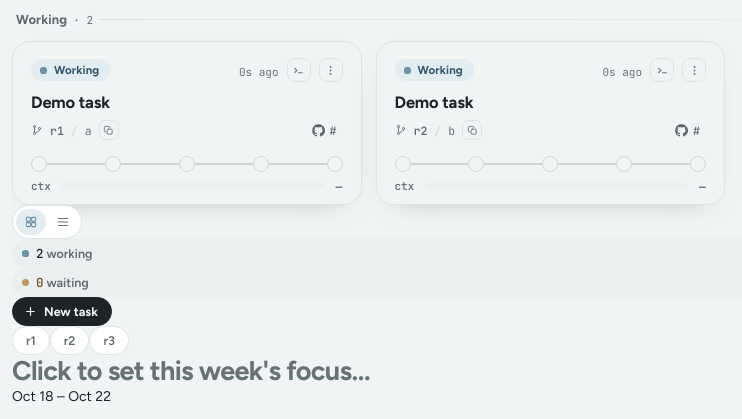
Scenario: ActiveBoard: project filter › a selection whose project disappears is pruned from the store, not left stranding an empty board
Step 1. Click the button "r2" → (70,341), box left=50, top=326, right=90, bottom=355
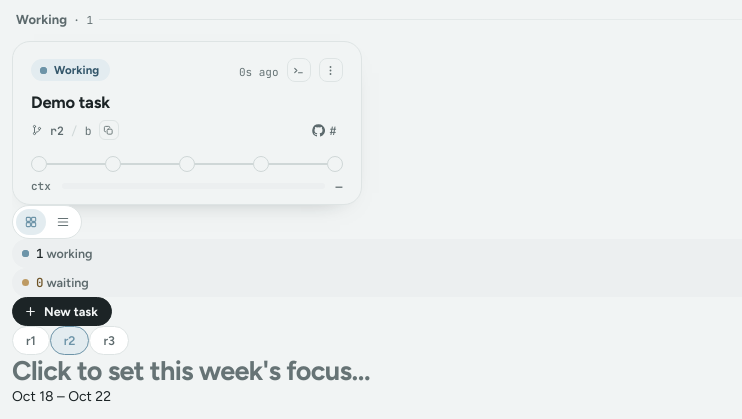
Now the number of elements with test id "task-card" is 1, box left=12, top=41, right=362, bottom=205
